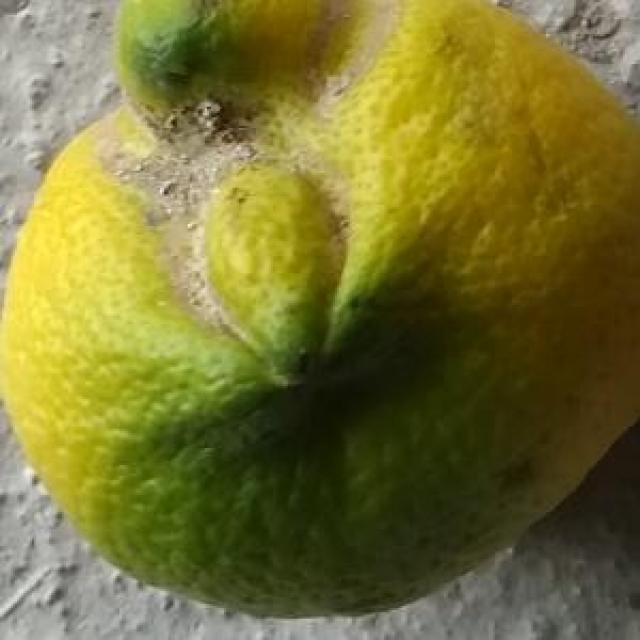lemon: (2, 0, 640, 624)
